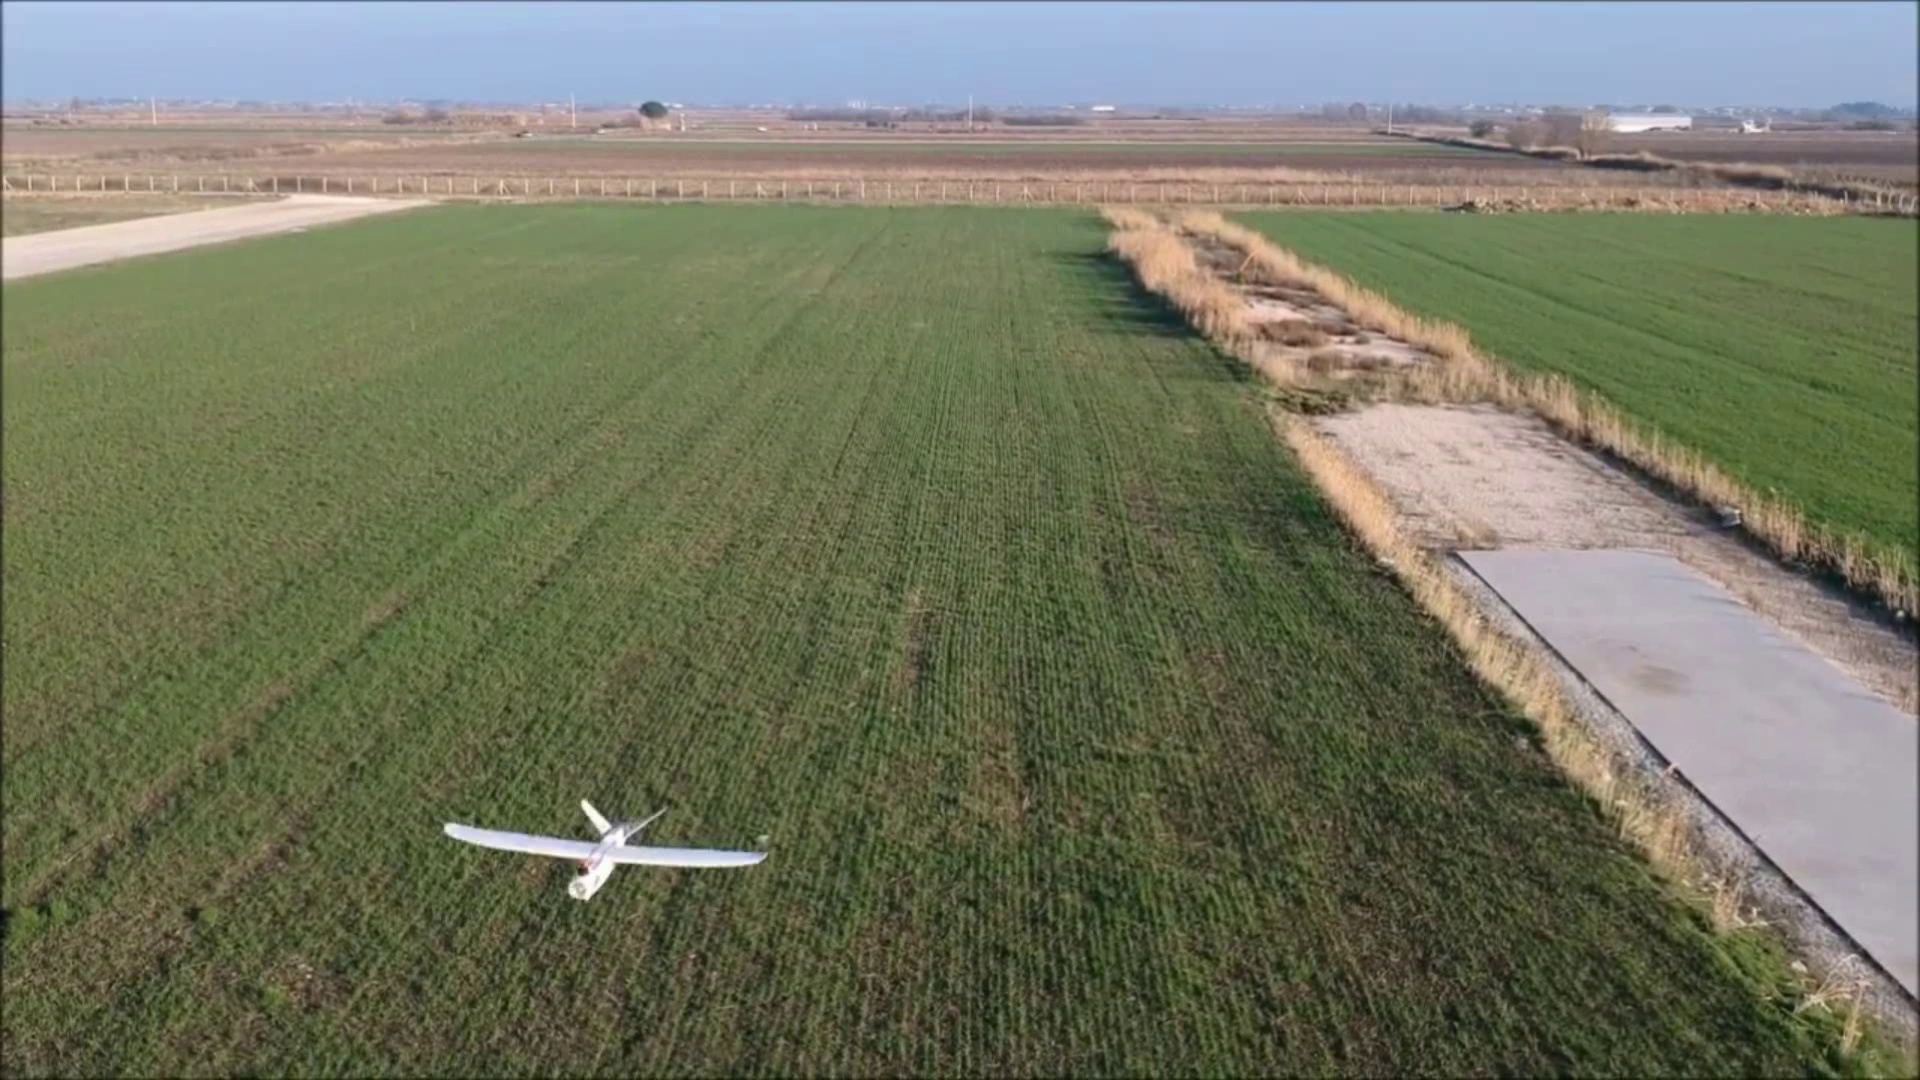airplane: (444, 799, 767, 901)
